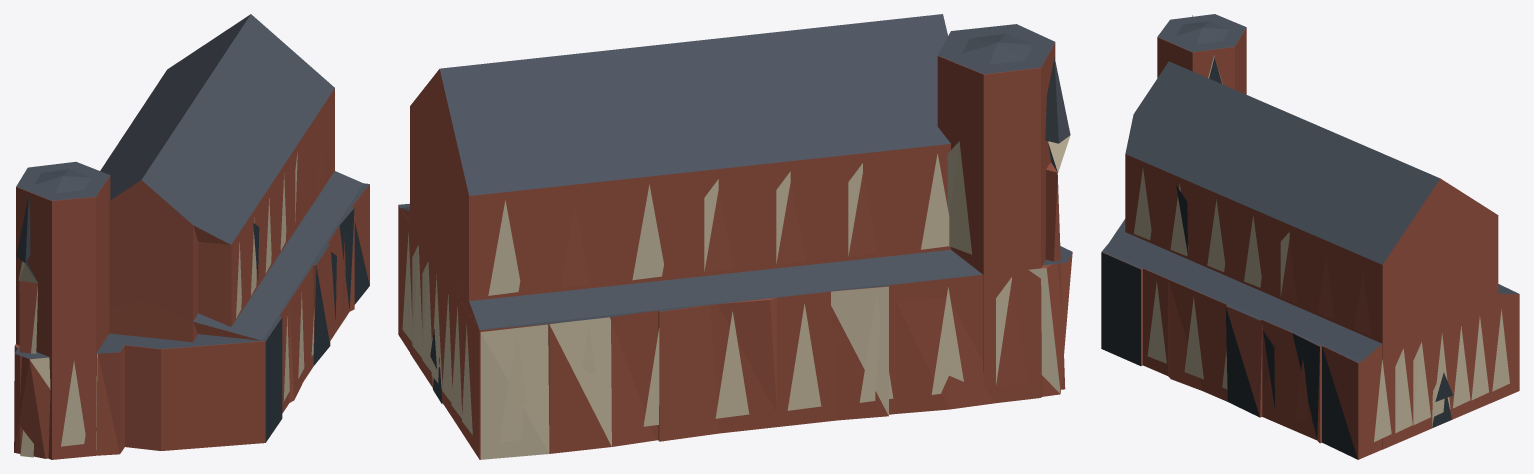
Rendered from dominicuskerk.lod2.glb.
3 views of the same model, side by side, from view 1: azimuth 30°, elevation 25°; view 2: azimuth 150°, elevation 25°; view 3: azimuth 270°, elevation 25° (orthographic). The views are drawn at different scales.
Visible parts, largest first — view 1: lod2; view 2: lod2; view 3: lod2.
Boxes of the visible parts, x1,y1,x2,y2 form: lod2: [14, 14, 369, 459]; lod2: [398, 14, 1072, 459]; lod2: [1101, 14, 1519, 459].
Size of the model in its own units: 49.83 by 28.6 by 43.05.
